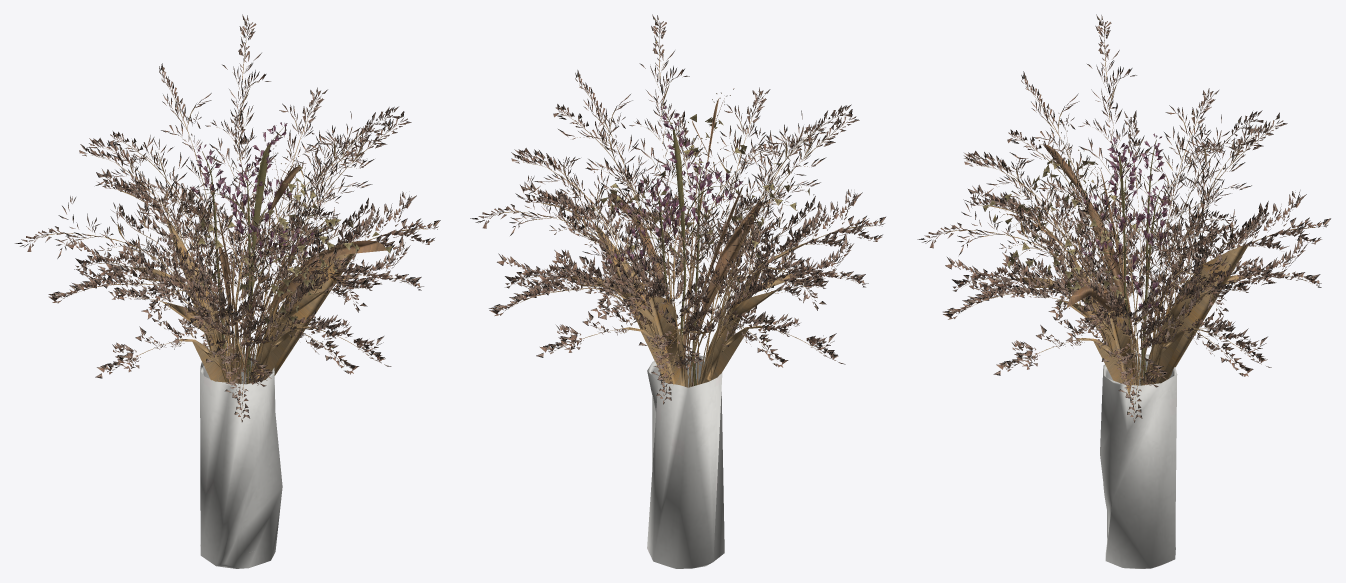
File: decor_plant_dried_vase_a01.glb
The picture shows the model from 3 angles, left to right: view 1: azimuth 30°, elevation 25°; view 2: azimuth 150°, elevation 25°; view 3: azimuth 270°, elevation 25°; orthographic projection.
Visible parts, largest first — view 1: sm_decor_plant_dried_vase_a01_01; view 2: sm_decor_plant_dried_vase_a01_01; view 3: sm_decor_plant_dried_vase_a01_01.
Boxes of the visible parts, x1=… form: sm_decor_plant_dried_vase_a01_01: x1=15, y1=14, x2=440, y2=568; sm_decor_plant_dried_vase_a01_01: x1=470, y1=14, x2=885, y2=568; sm_decor_plant_dried_vase_a01_01: x1=917, y1=14, x2=1330, y2=568.
Size of the model in its own units: 0.5509 by 0.6841 by 0.5381.
2 materials, 2 textured.
